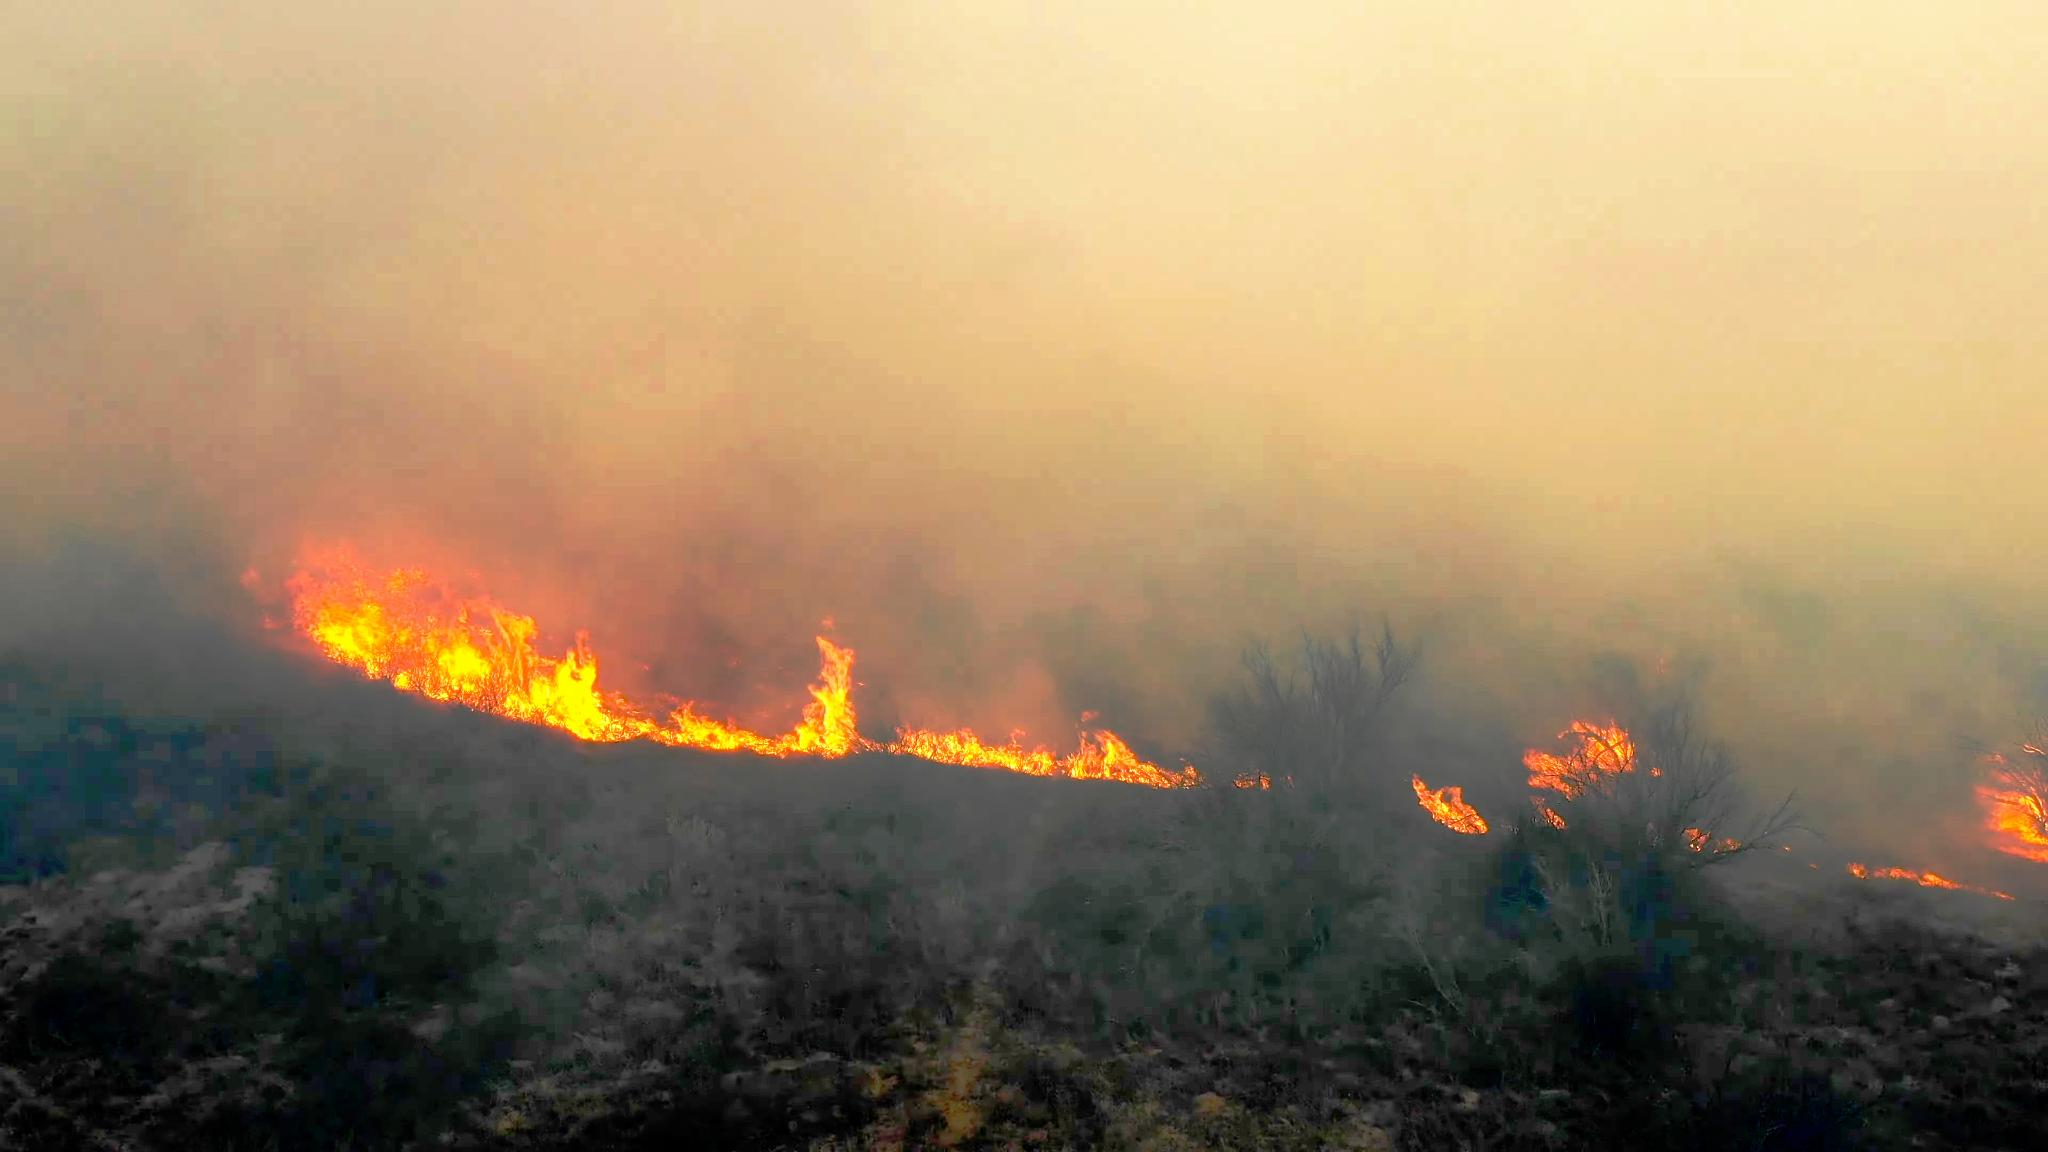fire: (284, 558, 598, 754), (599, 630, 866, 768), (892, 717, 1169, 802), (1513, 713, 1640, 820)
smoke: (589, 0, 1072, 502)
